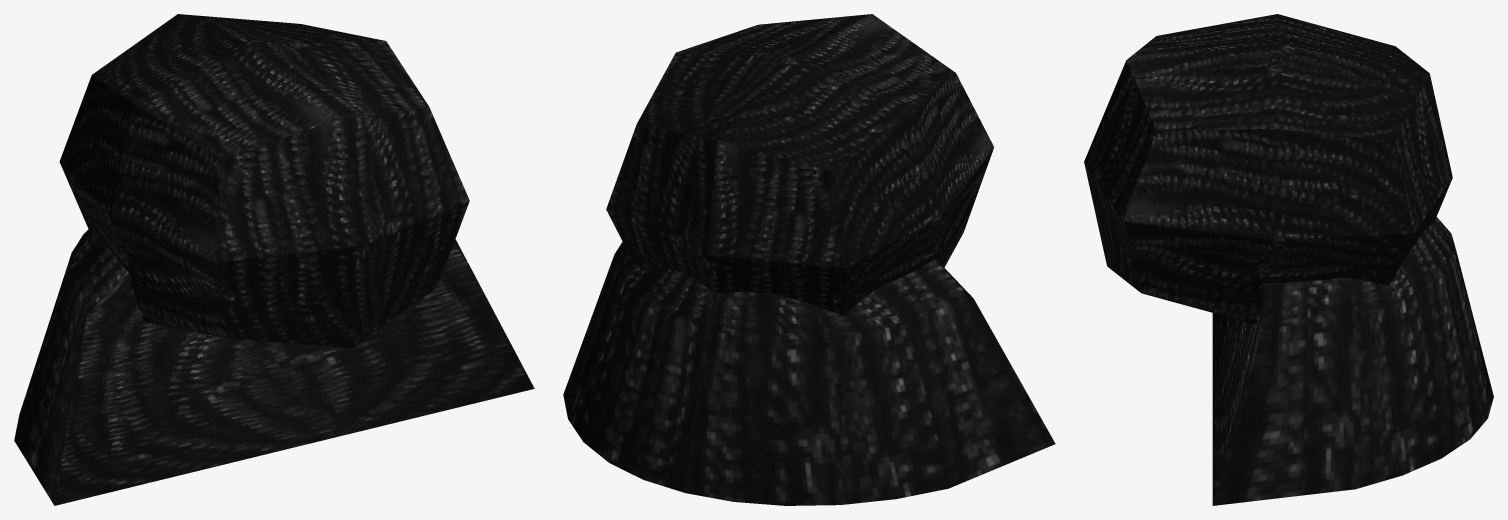
File: hair_long_aksum_male_01.dae
The picture shows the model from 3 angles, left to right: view 1: azimuth 30°, elevation 25°; view 2: azimuth 150°, elevation 25°; view 3: azimuth 270°, elevation 25°; orthographic projection. The views are drawn at different scales.
Parts seen in each view (by area): view 1: a_hair_long_aksum_male_01; view 2: a_hair_long_aksum_male_01; view 3: a_hair_long_aksum_male_01.
Boxes of the visible parts, x1,y1,x2,y2 form: a_hair_long_aksum_male_01: [14, 14, 534, 505]; a_hair_long_aksum_male_01: [563, 14, 1055, 505]; a_hair_long_aksum_male_01: [1084, 14, 1493, 505].
Bounding box in the file's own units: 0.8154 × 0.6479 × 0.6138.
